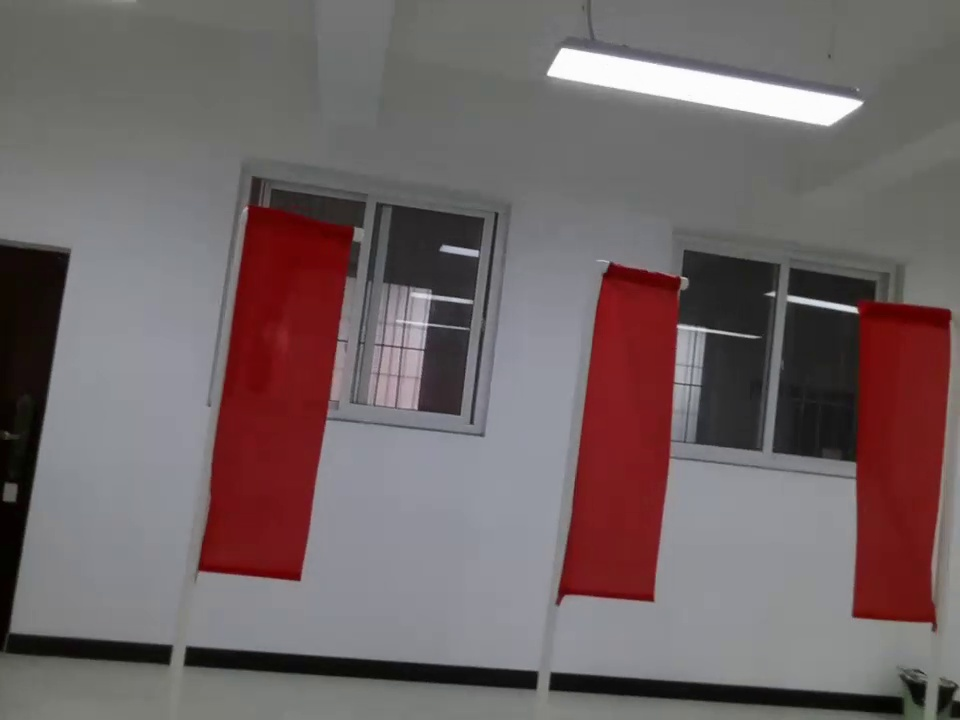qi: (172, 193, 364, 609), (552, 239, 689, 640), (847, 287, 960, 651)
